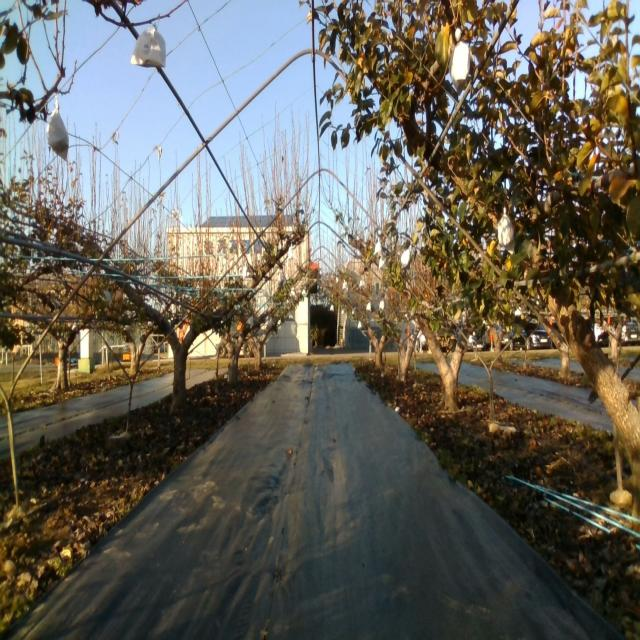pearbags: (130, 21, 168, 71), (46, 101, 70, 161), (449, 40, 470, 91), (495, 213, 516, 249)
